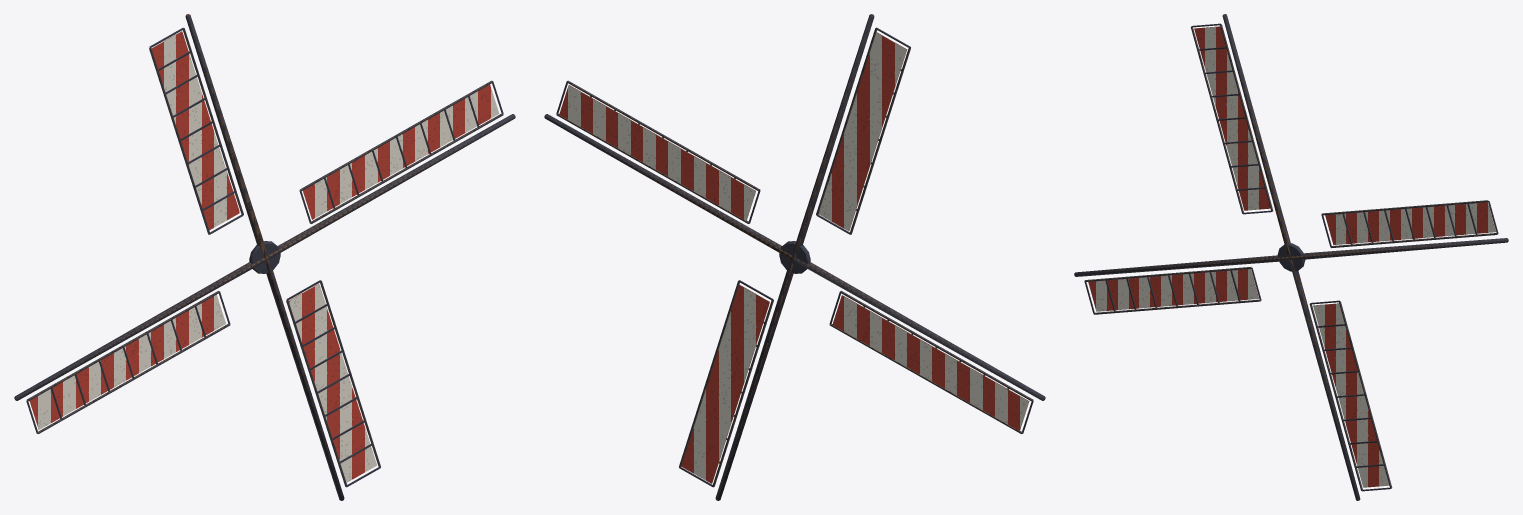
File: windmill_blades_2.glb
3 views of the same model, side by side, from view 1: azimuth 30°, elevation 25°; view 2: azimuth 150°, elevation 25°; view 3: azimuth 330°, elevation 25° (orthographic). The views are drawn at different scales.
Visible parts, largest first — view 1: windmill_blades_3; view 2: windmill_blades_3; view 3: windmill_blades_3.
Part boxes in pixels (x1,y1,x2,y2): windmill_blades_3: (14, 14, 515, 500); windmill_blades_3: (544, 14, 1045, 500); windmill_blades_3: (1074, 14, 1508, 500).
Bounding box in the file's own units: 9.95 × 9.95 × 0.1535.
Materials: 4 (4 with a texture image).
